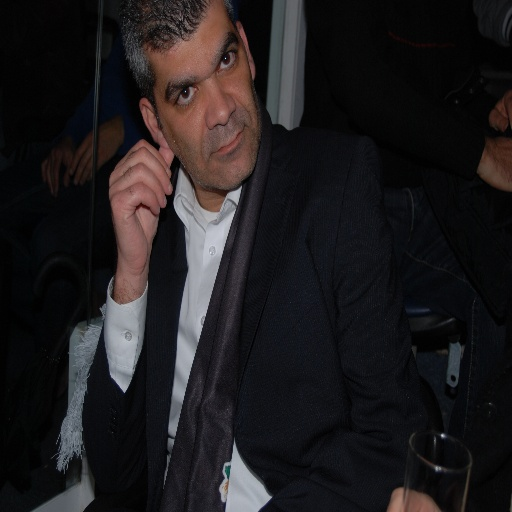hand: (99, 110, 165, 291), (69, 116, 126, 187), (38, 145, 75, 200), (481, 137, 511, 193), (387, 488, 441, 511), (488, 87, 511, 131)
